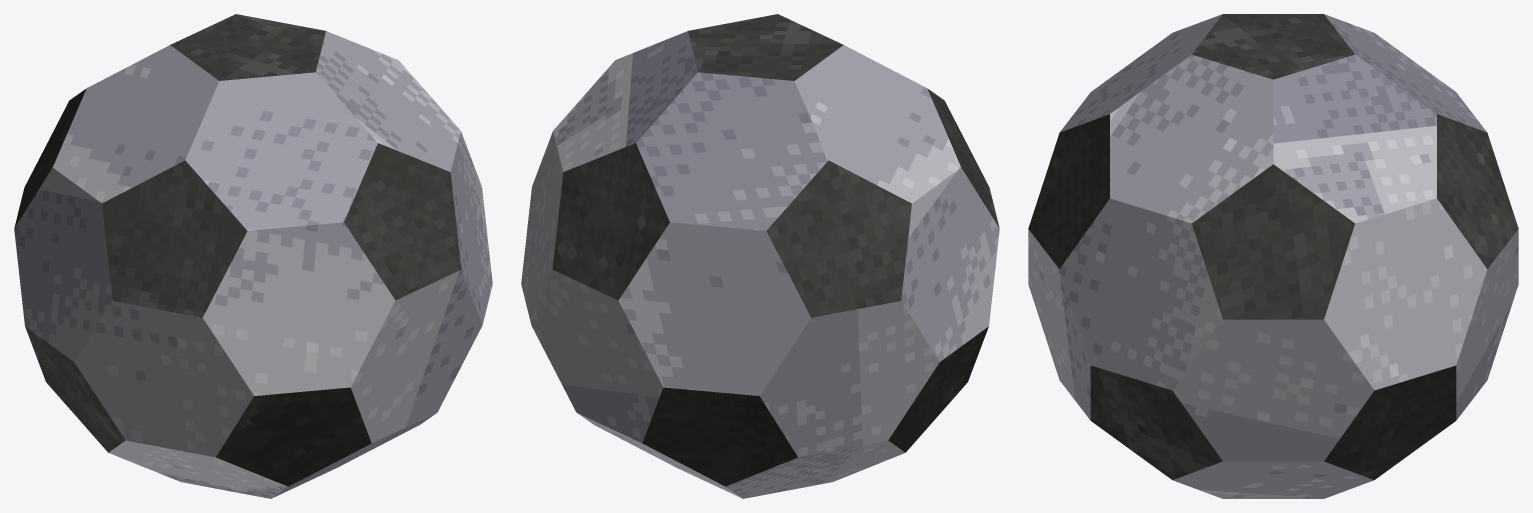
File: Football.fbx
3 renders of one model, left to right at view 1: azimuth 30°, elevation 25°; view 2: azimuth 150°, elevation 25°; view 3: azimuth 270°, elevation 25°, orthographic. The views are drawn at different scales.
Visible parts, largest first — view 1: Icosphere; view 2: Icosphere; view 3: Icosphere.
Part boxes in pixels (box(x1,y1,x2,y2)): Icosphere: box(14, 14, 492, 498); Icosphere: box(521, 14, 999, 498); Icosphere: box(1028, 14, 1518, 498).
Bounding box in the file's own units: 0.1088 × 0.106 × 0.1105.
Materials: 2 (2 with a texture image).
